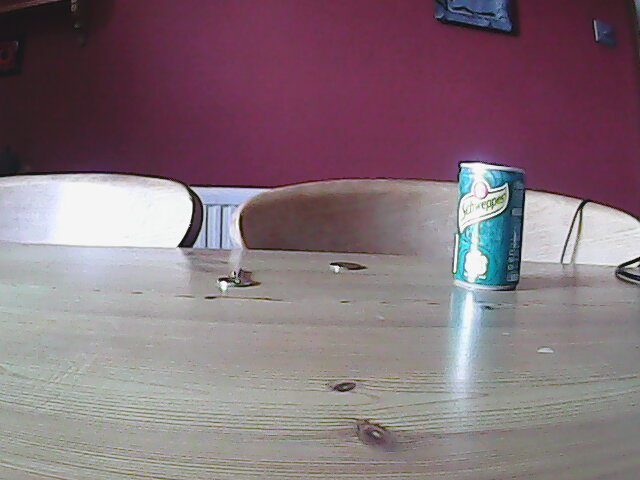Can: (449, 160, 527, 294)
Coin: (327, 258, 363, 272)
Key: (217, 267, 255, 290)
